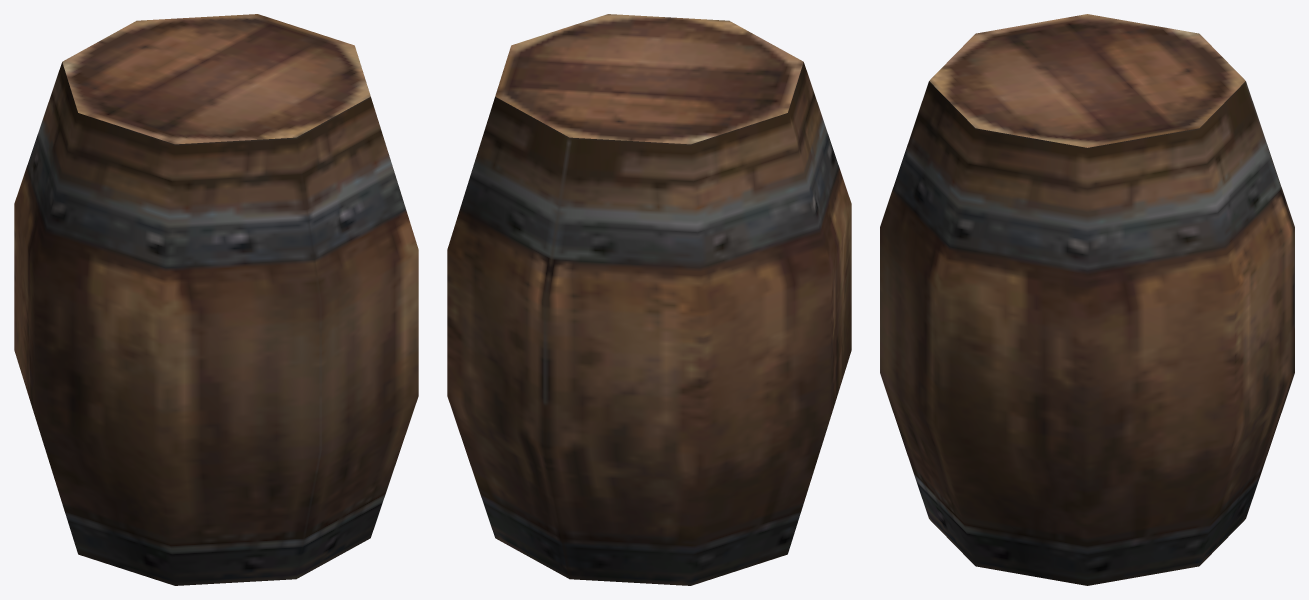
Rendered from Stage001_Box_02.FBX.
3 views of the same model, side by side, from view 1: azimuth 30°, elevation 25°; view 2: azimuth 150°, elevation 25°; view 3: azimuth 270°, elevation 25° (orthographic).
Parts seen in each view (by area): view 1: Stage001_Box_02; view 2: Stage001_Box_02; view 3: Stage001_Box_02.
Boxes of the visible parts, bbox=[...] form: Stage001_Box_02: bbox=[14, 14, 418, 585]; Stage001_Box_02: bbox=[447, 14, 851, 585]; Stage001_Box_02: bbox=[880, 14, 1294, 585].
Size of the model in its own units: 137 by 159 by 137.
Materials: 1 (1 with a texture image).
